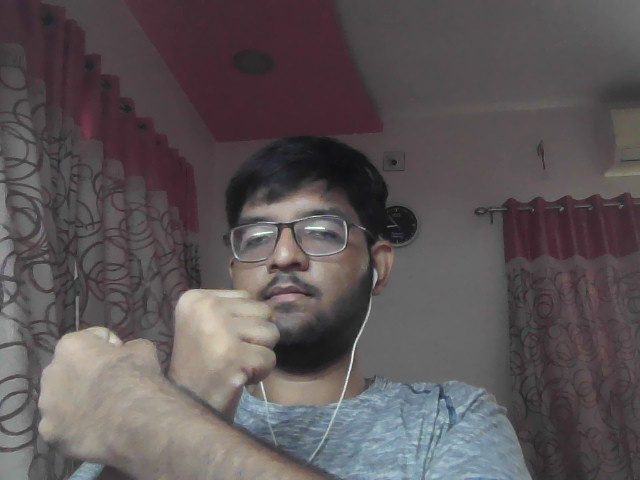પ્રેમ: (18, 256, 314, 480)
